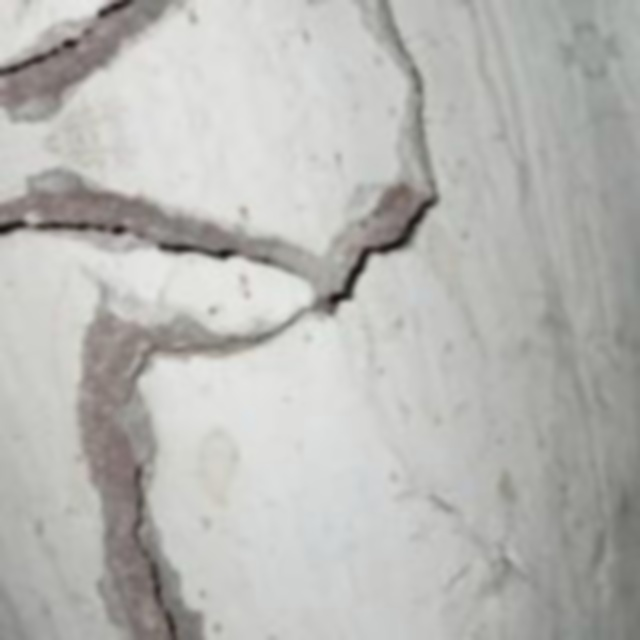SurfaceCrack: (0, 184, 326, 640), (276, 0, 502, 348), (10, 0, 144, 144)
